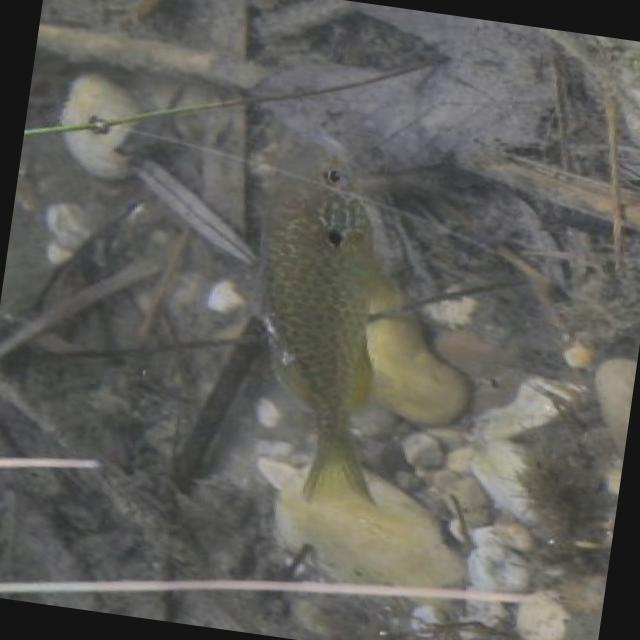Gunes Levregi: (220, 119, 439, 517)
